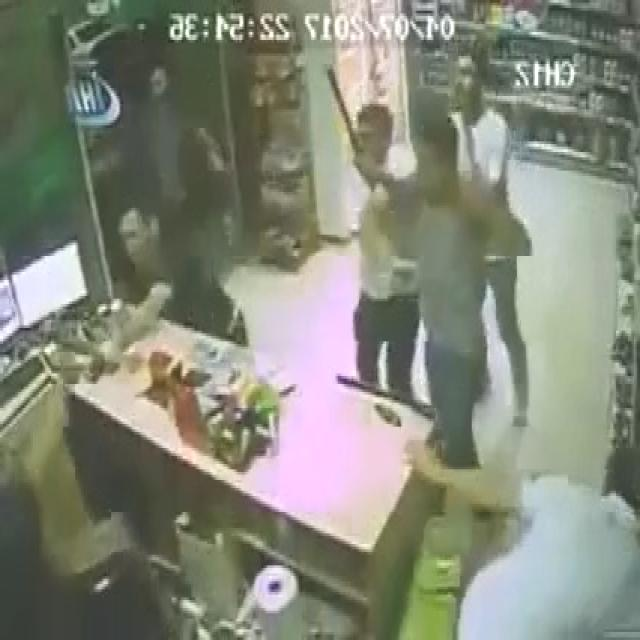fight: (347, 91, 491, 452)
